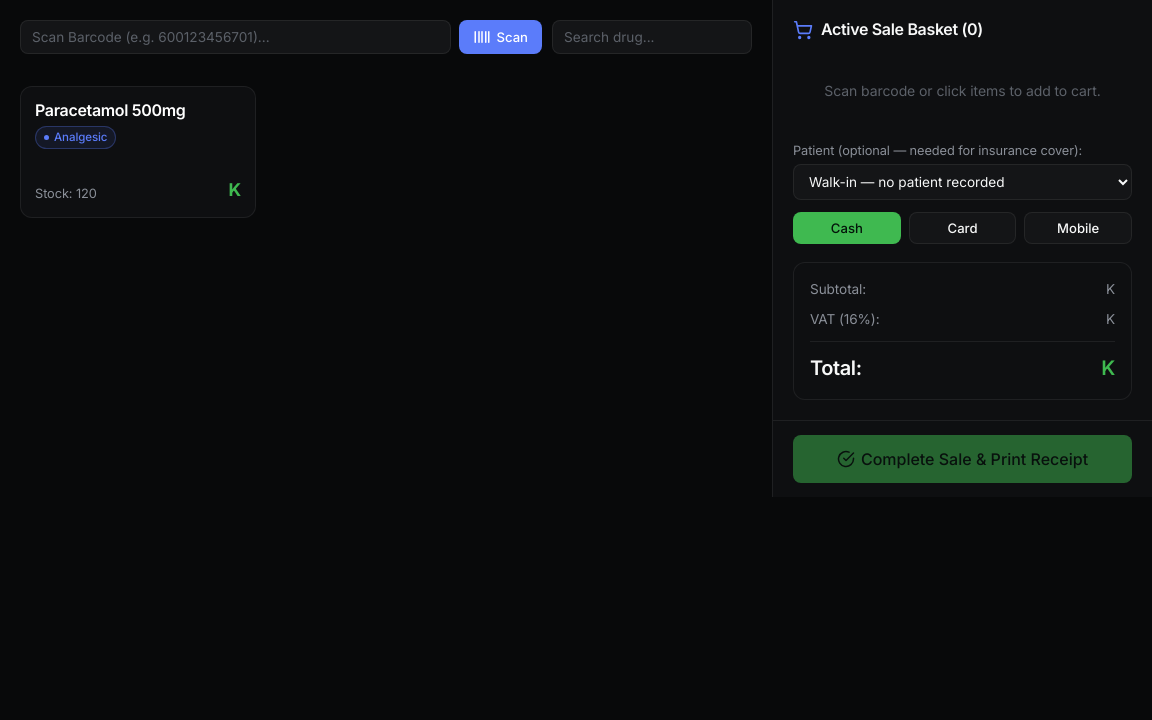
the till can apply insurance cover › reports that cover could not be checked when the lookup fails
The width and height of the screenshot is (1152, 720).
Select "Chipego Mukimba · +260965111222" in the dropdown: (962, 182) x1=793 y1=164 x2=1132 y2=200
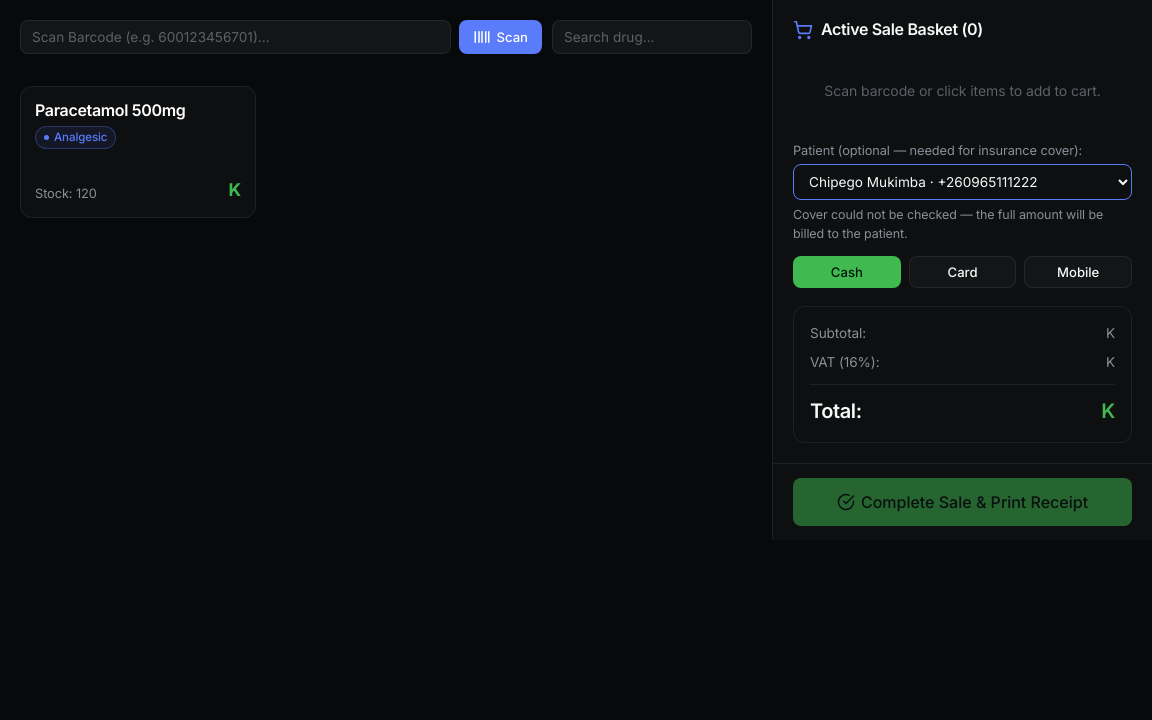
Expected: the text "Cover could not be checked" is shown, x1=793 y1=207 x2=1103 y2=241
